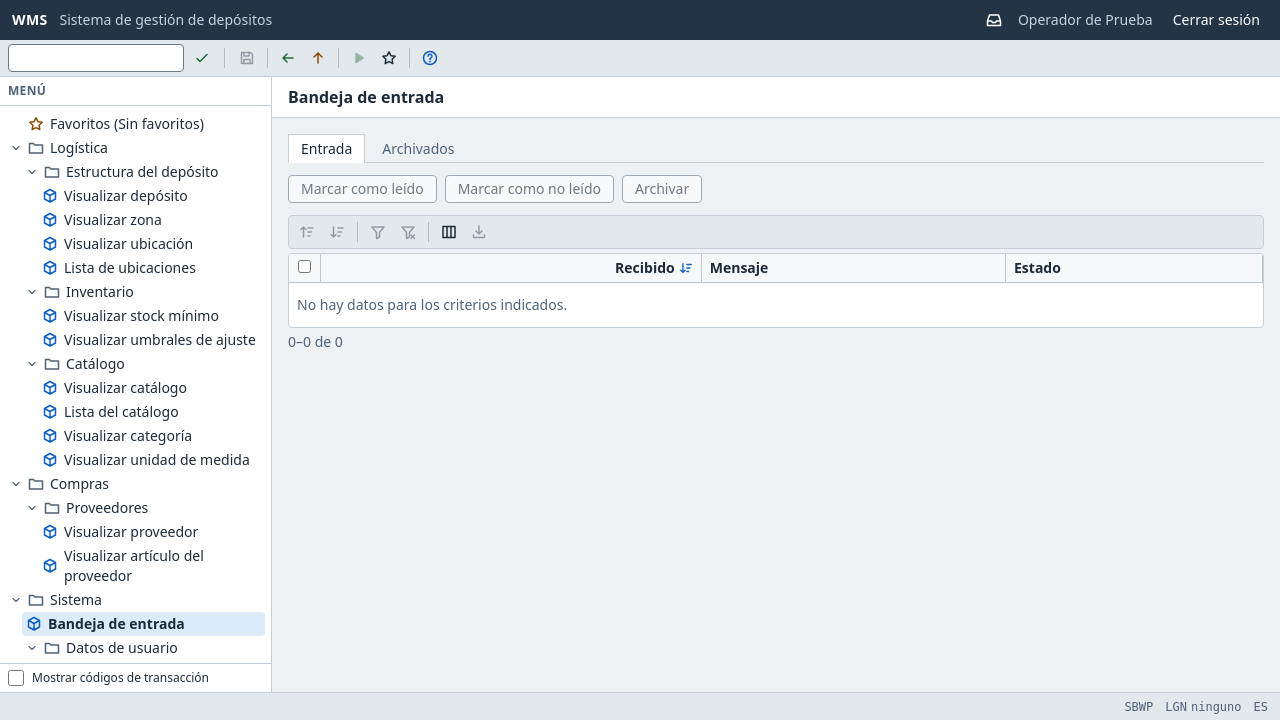
SBWP: bandeja de entrada › muestra los archivados con Desarchivar
Click the tab "Archivados" at x=418, y=148, box [369,134,468,163]
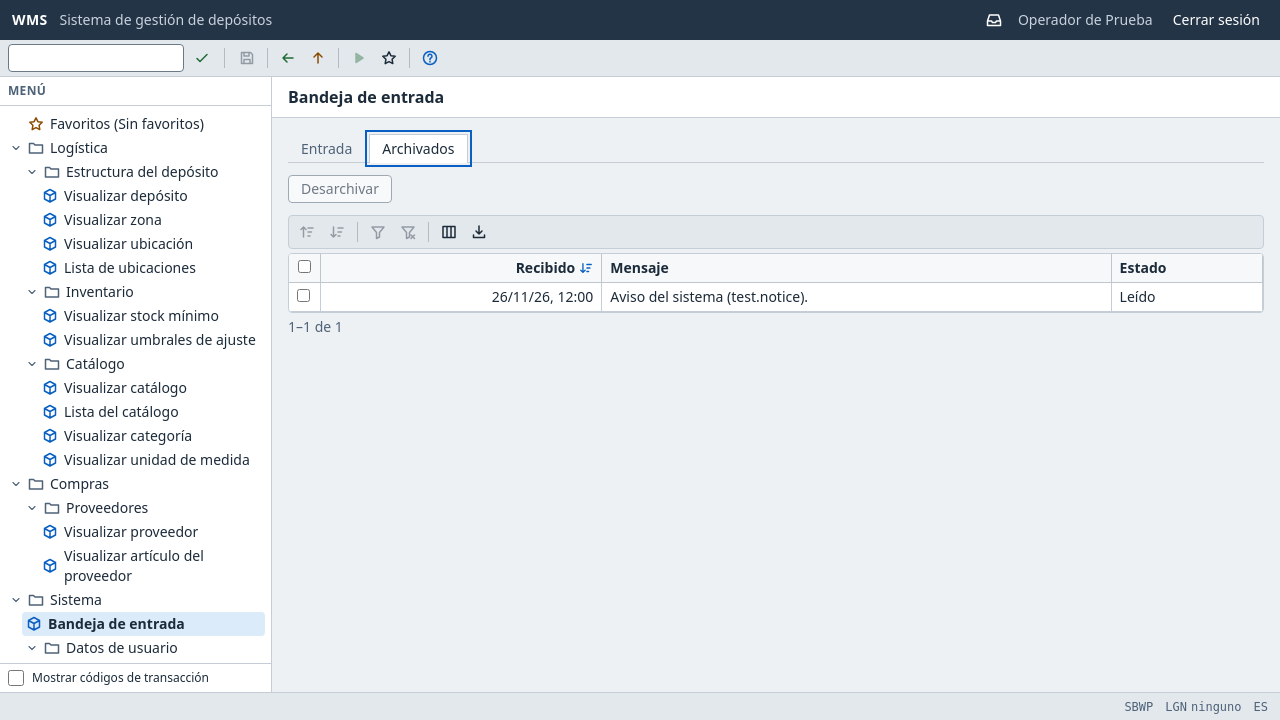
Now the button "Desarchivar" is shown, box [288,175,392,203]
